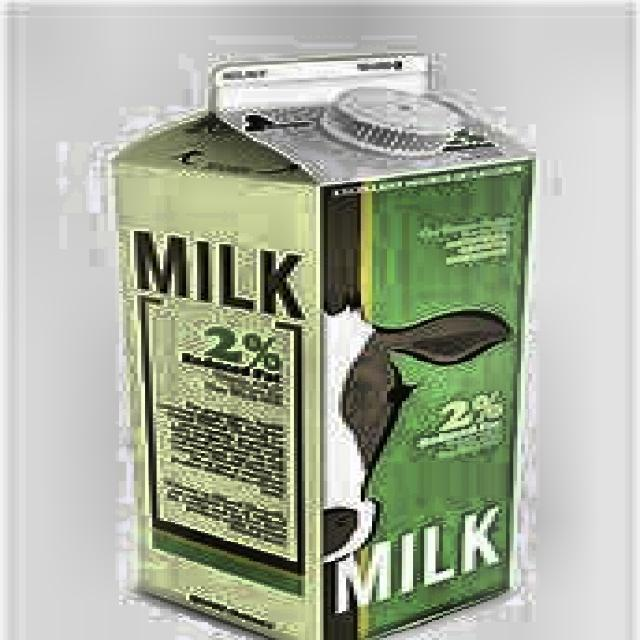cardboard: (112, 53, 536, 638)
